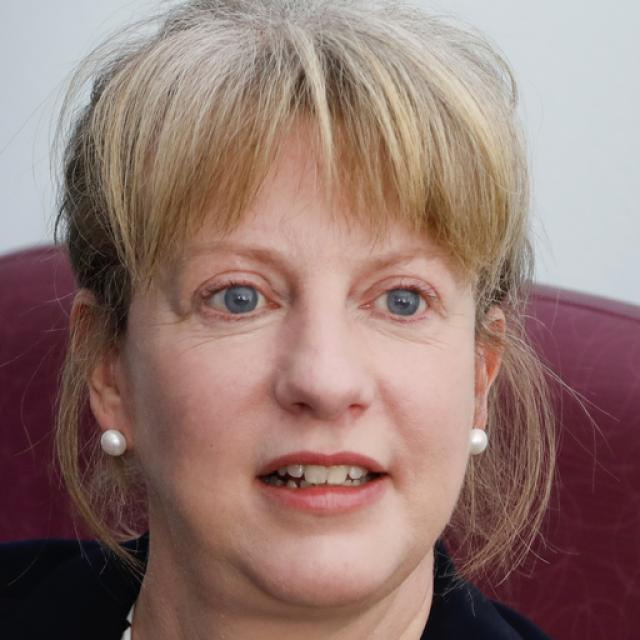disgust: (130, 107, 476, 605)
